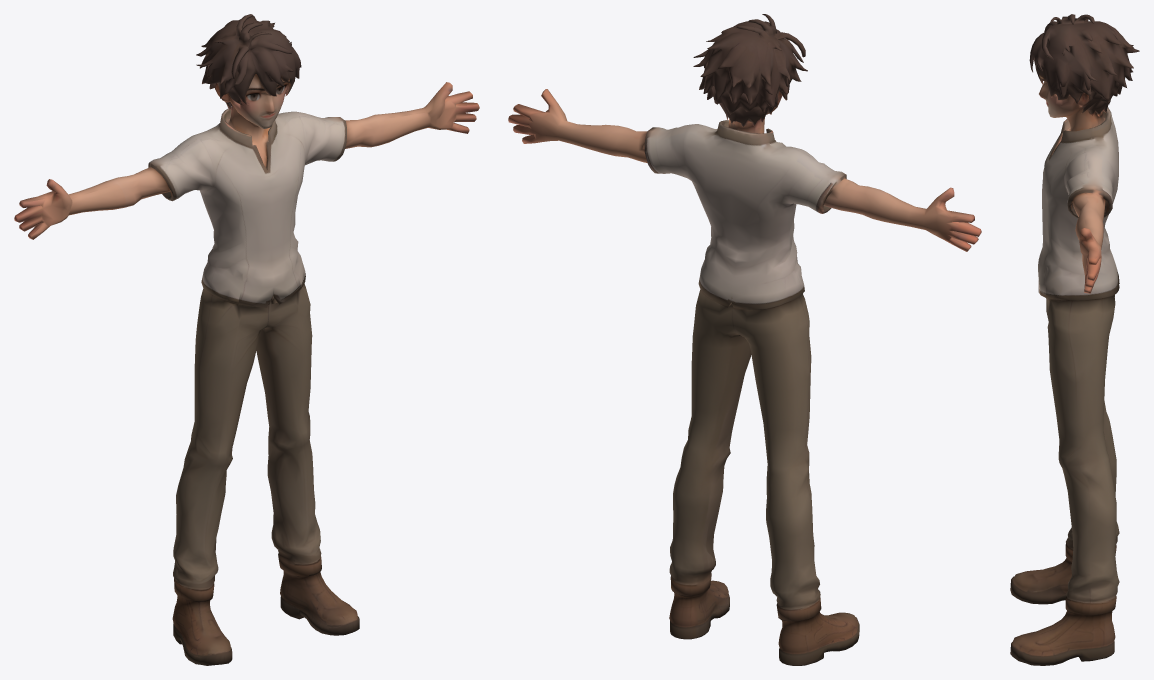
File: original-01-glb.glb
3 views of the same model, side by side, from view 1: azimuth 30°, elevation 25°; view 2: azimuth 150°, elevation 25°; view 3: azimuth 270°, elevation 25° (orthographic).
Parts seen in each view (by area): view 1: material; view 2: material; view 3: material.
Part boxes in pixels (x1,y1,x2,y2): material: [14, 14, 479, 665]; material: [508, 14, 981, 665]; material: [1010, 14, 1139, 665].
Size of the model in its own units: 1.51 by 1.9 by 0.3655.
1 material, 1 textured.
